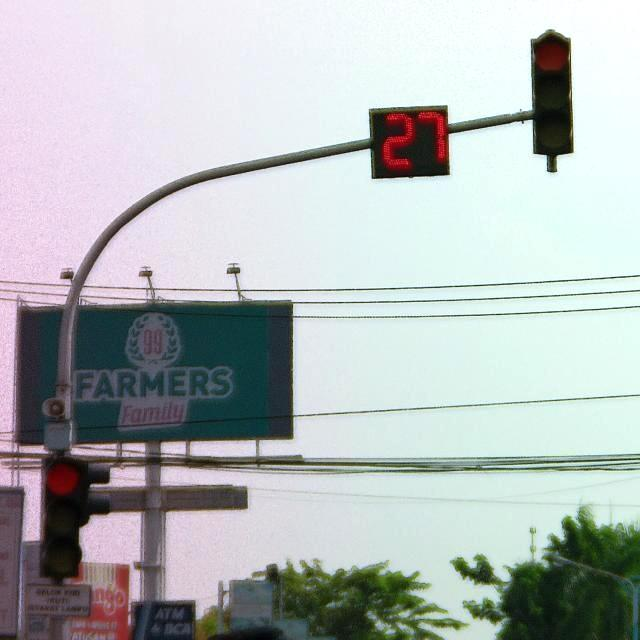Red: (14, 443, 132, 588), (343, 98, 481, 194), (516, 28, 585, 174)
